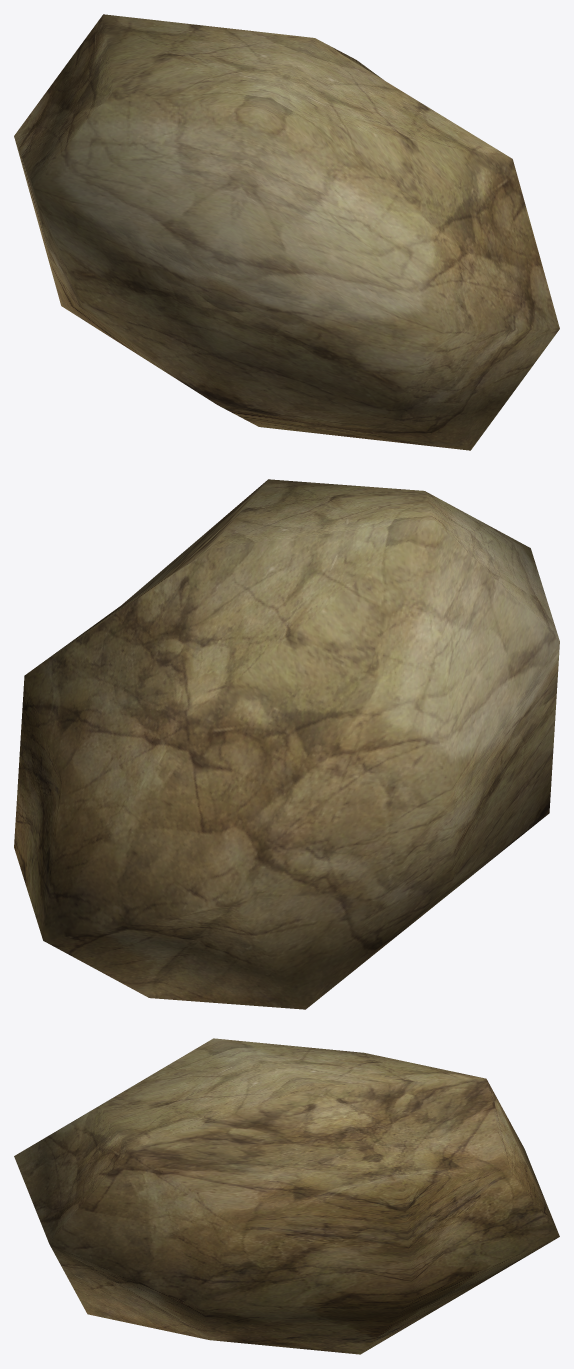
Rendered from Rock03.FBX.
3 views of the same model, one above another, from view 1: azimuth 30°, elevation 25°; view 2: azimuth 150°, elevation 25°; view 3: azimuth 270°, elevation 25° (orthographic). The views are drawn at different scales.
Visible parts, largest first — view 1: Rock03; view 2: Rock03; view 3: Rock03.
Boxes of the visible parts, left/top/right/bottom form: Rock03: left=14, top=14, right=559, bottom=450; Rock03: left=14, top=479, right=559, bottom=1009; Rock03: left=14, top=1038, right=559, bottom=1354.
Bounding box in the file's own units: 832 × 700 × 1330.
